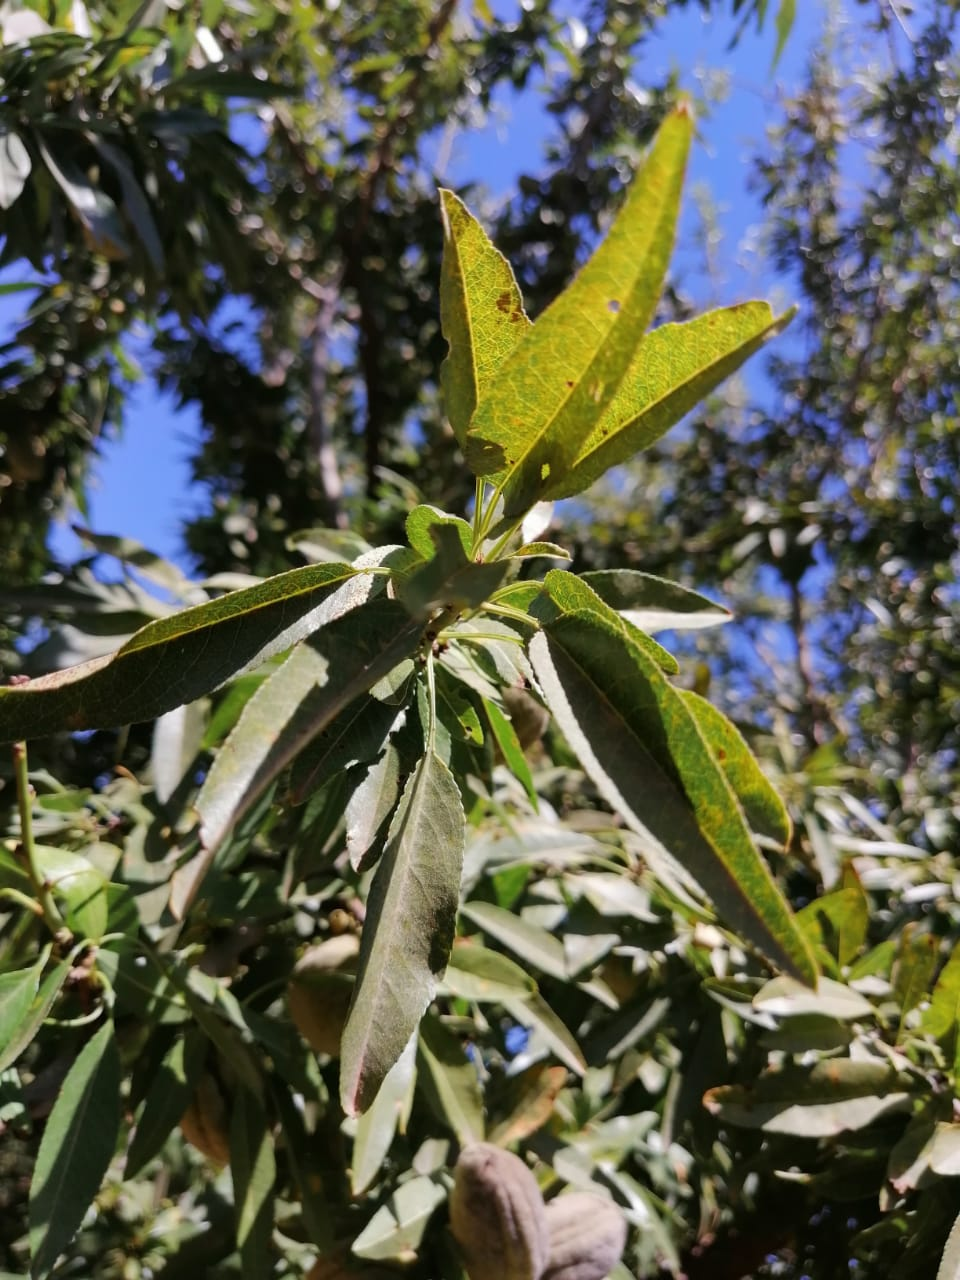rouille: (469, 104, 692, 502), (433, 183, 541, 444), (663, 687, 792, 856)
